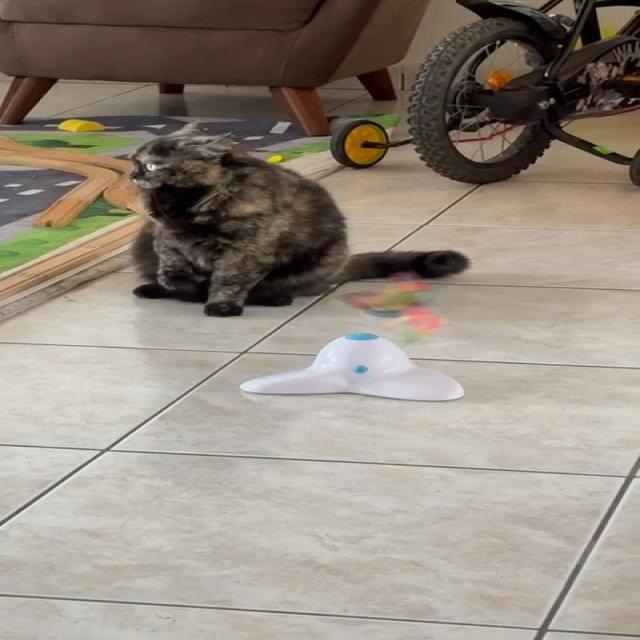authorized: (121, 120, 471, 317)
